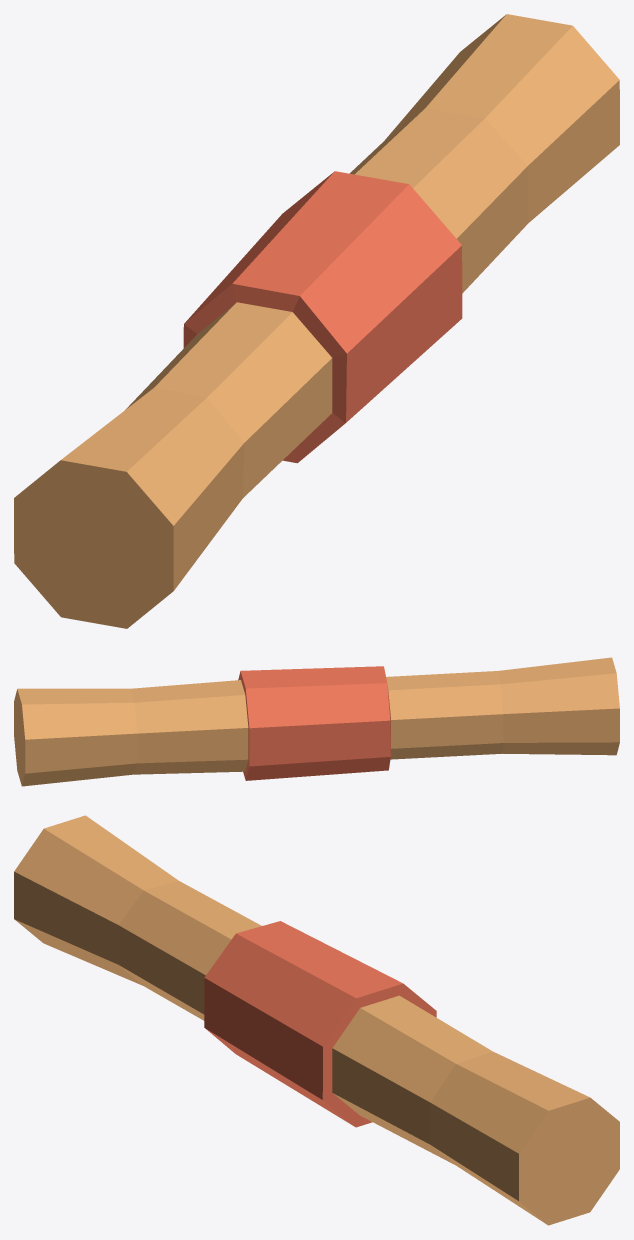
The model's file is Scroll.fbx.
The picture shows the model from 3 angles, top to bottom: view 1: azimuth 30°, elevation 25°; view 2: azimuth 150°, elevation 25°; view 3: azimuth 270°, elevation 25°; orthographic projection. The views are drawn at different scales.
Parts seen in each view (by area): view 1: Scroll.019; view 2: Scroll.019; view 3: Scroll.019.
Part boxes in pixels (left/top/right/bottom): Scroll.019: left=14, top=14, right=619, bottom=628; Scroll.019: left=14, top=657, right=619, bottom=786; Scroll.019: left=14, top=815, right=619, bottom=1225.
Size of the model in its own units: 52.67 by 10.09 by 42.88.
